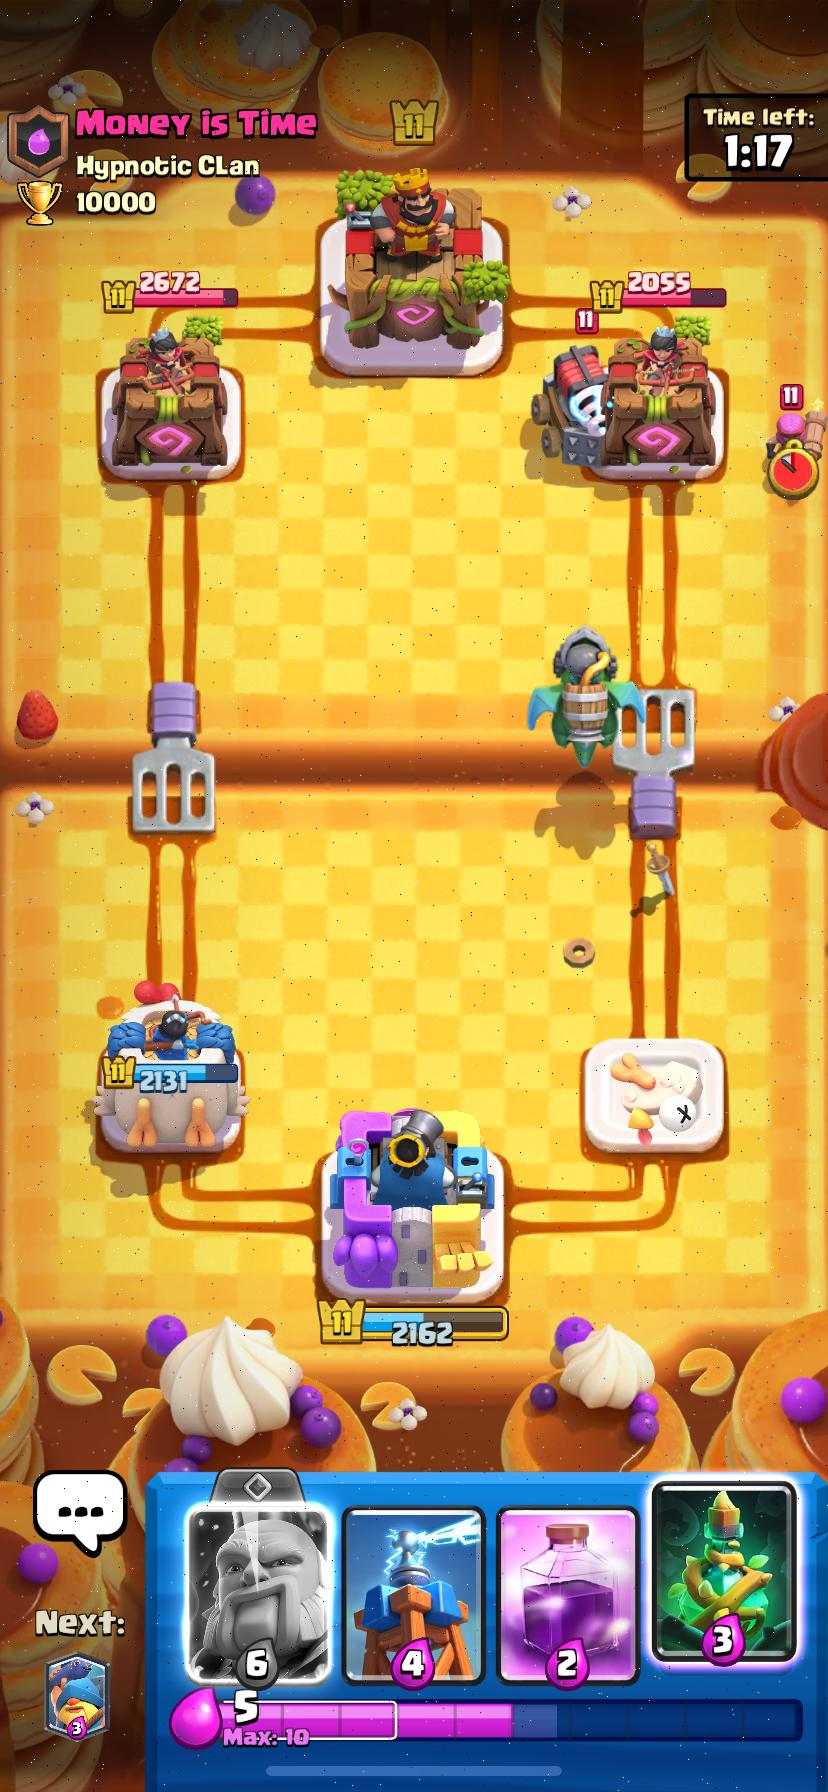EFirecrack: (767, 383, 827, 461)
EKingTower: (343, 169, 508, 350)
ESparky: (532, 344, 607, 466)
EnemyPrincessTower: (112, 327, 226, 473), (602, 327, 712, 467)
OInfernoDrag: (528, 625, 645, 767)
OwnKingTower: (321, 1109, 503, 1306)
OwnPrincessTower: (93, 983, 248, 1152)
TowerDown: (583, 1037, 725, 1157)
